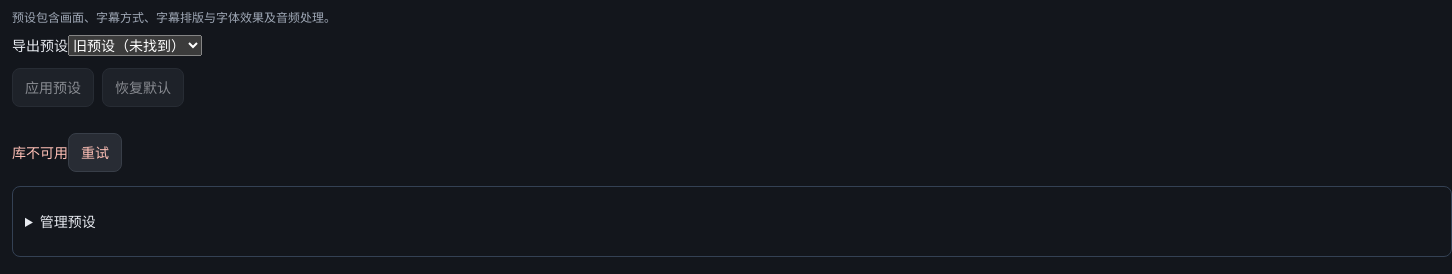
原预设已删除仍保留当前配置，库读取失败可重试
The width and height of the screenshot is (1452, 274).
What coordinates should you click on to do the following:
click the button "重试"
I would click on:
 (95, 153)
Its box is [68,133,122,172].
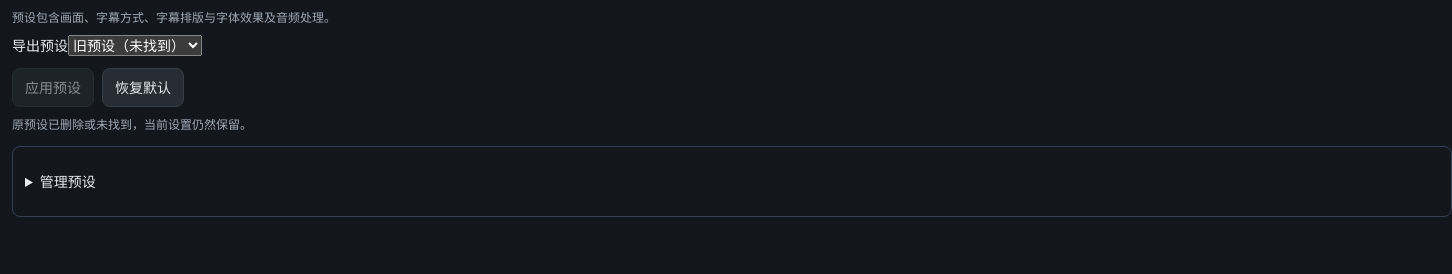
Expected: the text "原预设已删除或未找到，当前设置仍然保留。" is shown, [12,117,252,132]
